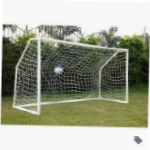goals: (11, 36, 129, 115)
